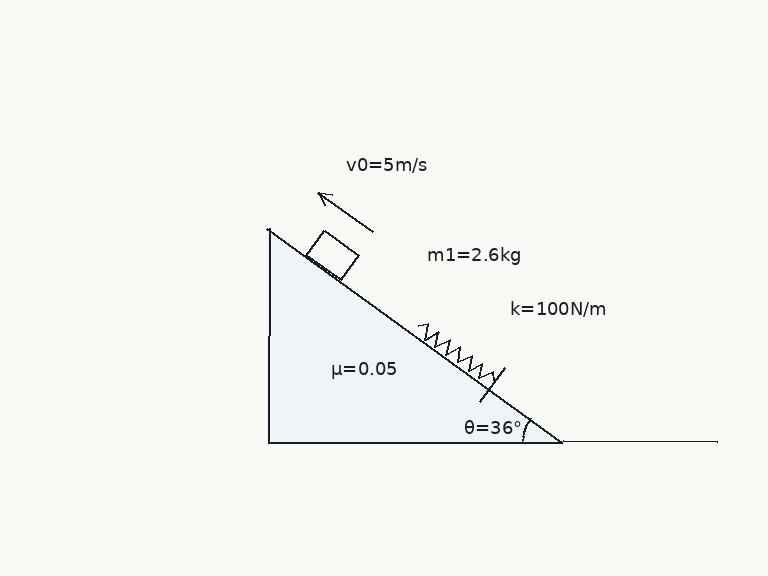block: (304, 229, 360, 282)
ramp: (266, 225, 565, 444)
spring: (416, 322, 496, 383)
